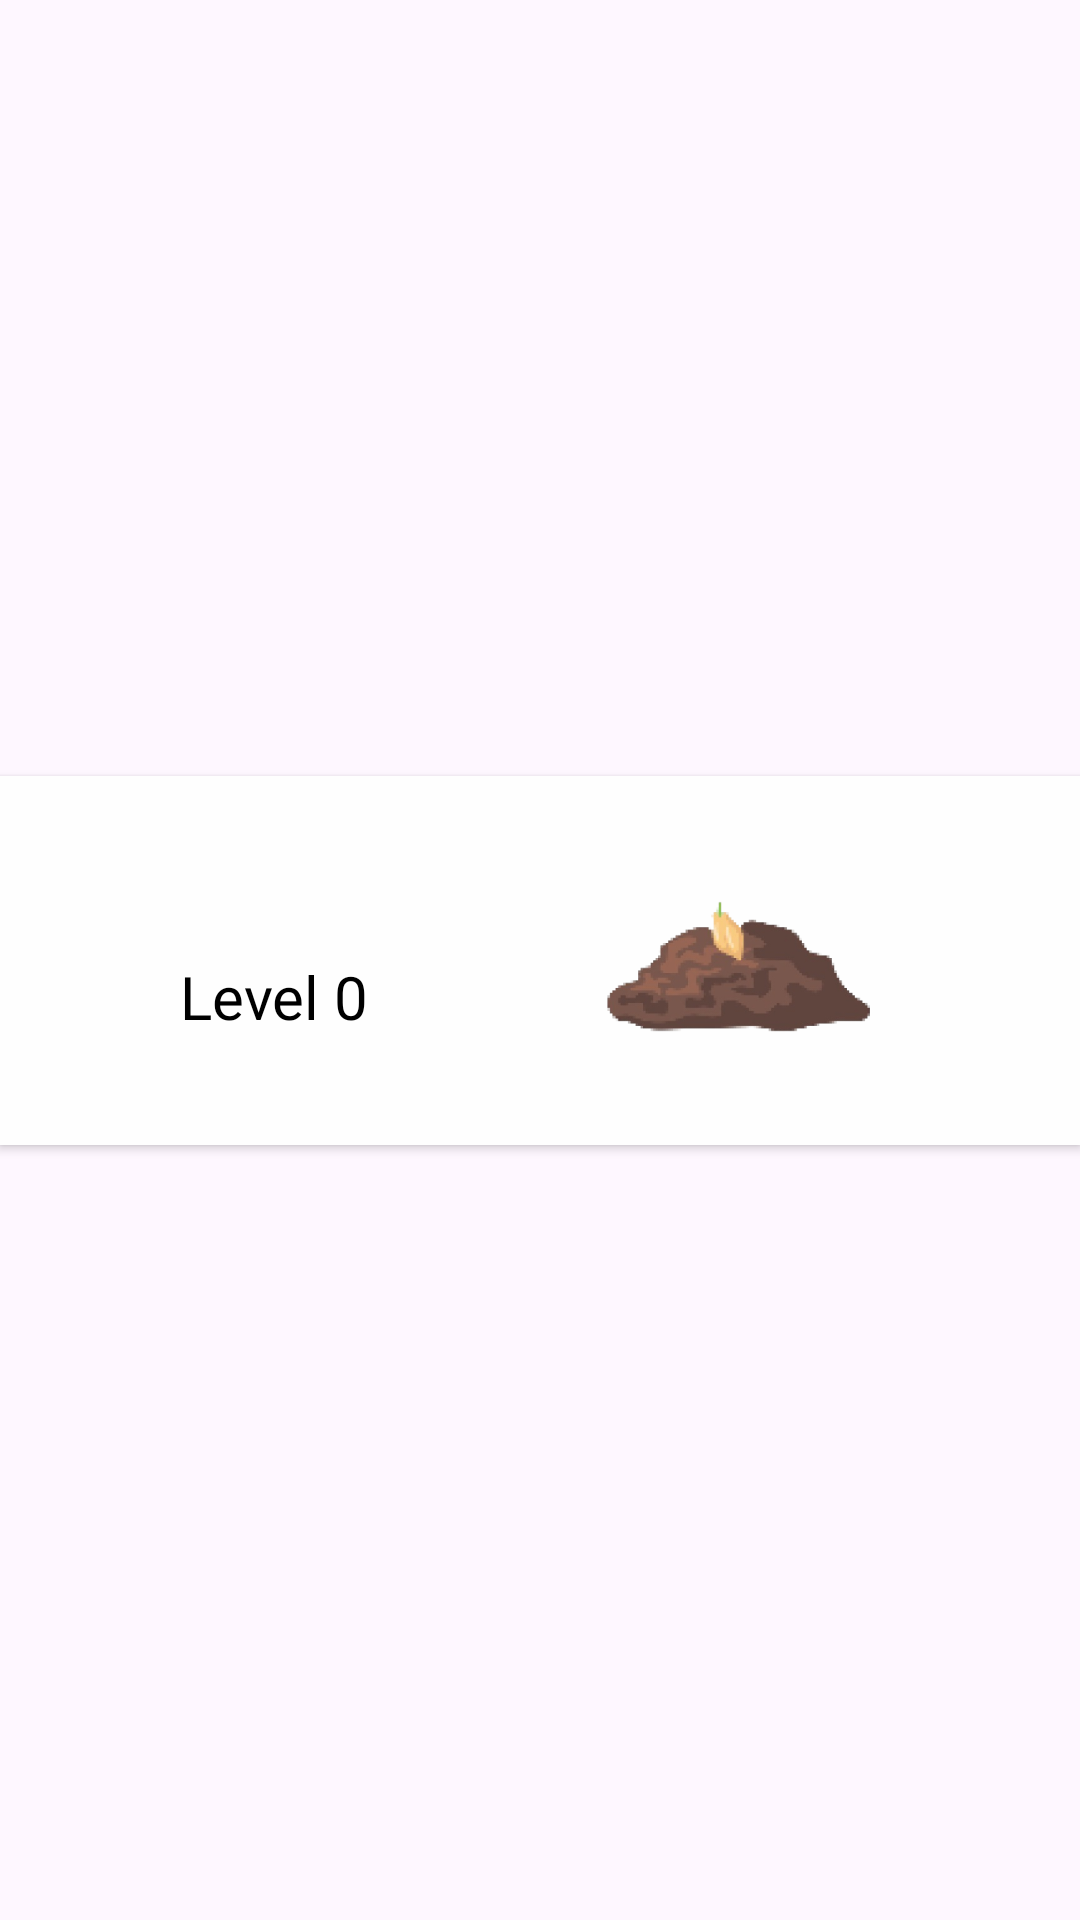

Icons on this 1080 × 1920 Android screen, each with its box as [x1, y1, x2, y2]:
sprite plant lvl: [607, 902, 870, 1032]
